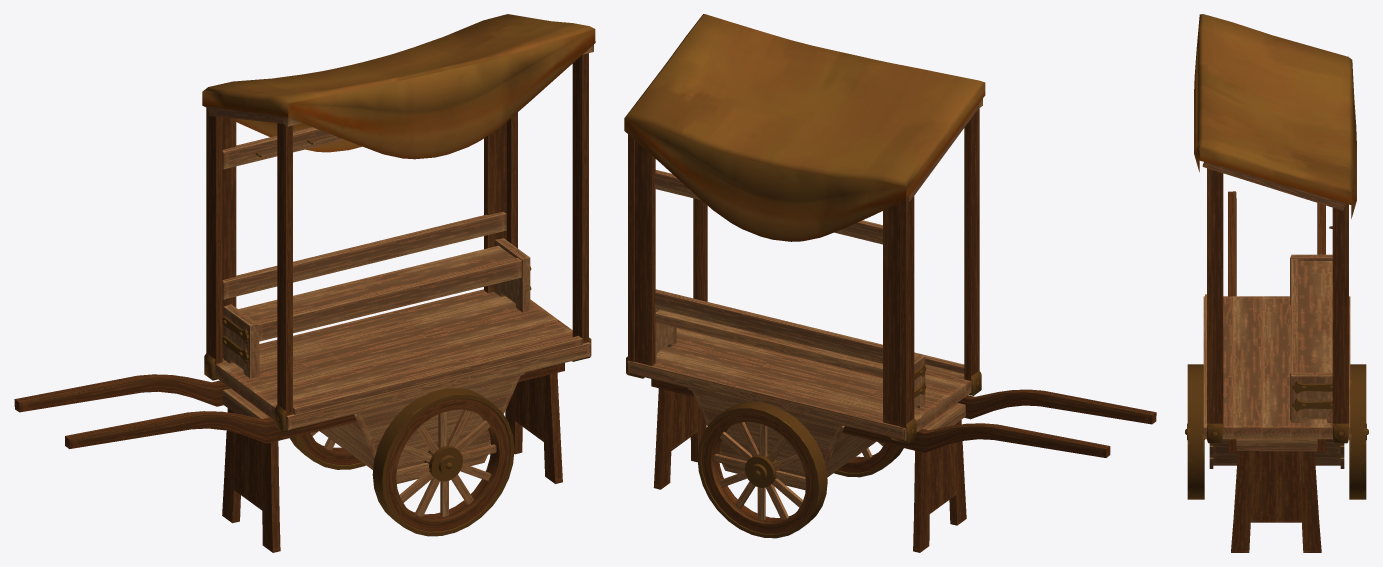
Rendered from cart-DGZ7Z6bZ.glb.
3 renders of one model, left to right at view 1: azimuth 30°, elevation 25°; view 2: azimuth 150°, elevation 25°; view 3: azimuth 270°, elevation 25°, orthographic. The views are drawn at different scales.
Parts seen in each view (by area): view 1: Stall_Cart_Empty; view 2: Stall_Cart_Empty; view 3: Stall_Cart_Empty.
Part boxes in pixels (x1,y1,x2,y2): Stall_Cart_Empty: [14, 14, 595, 552]; Stall_Cart_Empty: [624, 14, 1156, 552]; Stall_Cart_Empty: [1185, 14, 1368, 552].
Bounding box in the file's own units: 4.53 × 3.95 × 1.59.
Materials: 3 (3 with a texture image).
